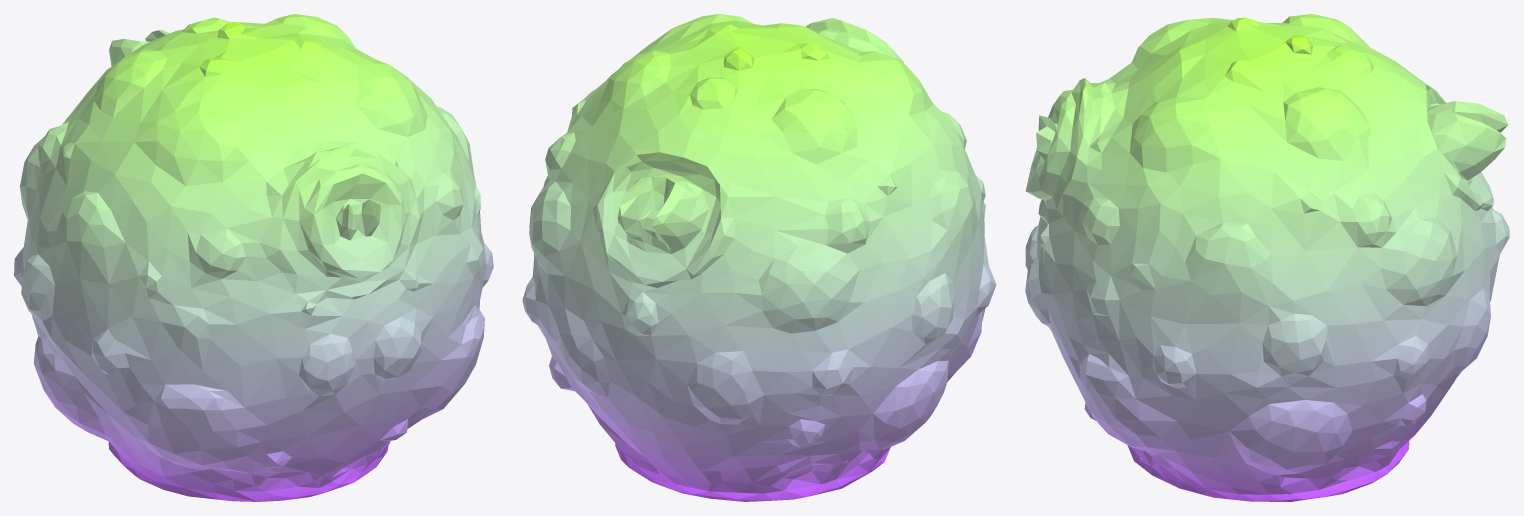
File: 113_cyb_laser_gradient_fish_scales_2878_2026_10_03_e865f4.glb
3 views of the same model, side by side, from view 1: azimuth 30°, elevation 25°; view 2: azimuth 150°, elevation 25°; view 3: azimuth 270°, elevation 25° (orthographic).
Parts seen in each view (by area): view 1: geometry_0; view 2: geometry_0; view 3: geometry_0.
Boxes of the visible parts, <box> form: geometry_0: <box>14,14,493,501</box>; geometry_0: <box>522,14,996,501</box>; geometry_0: <box>1025,14,1509,501</box>.
Size of the model in its own units: 0.9912 by 0.9344 by 0.9987.
